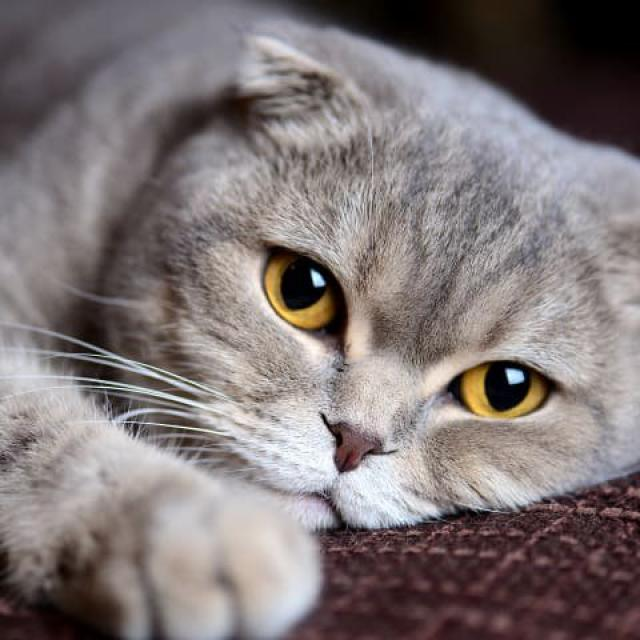cat: (44, 82, 624, 585)
